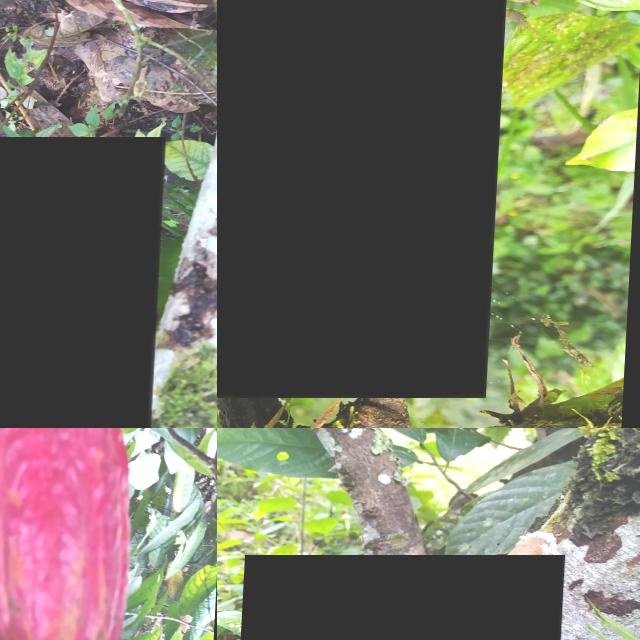Fitoftora: (217, 0, 509, 397), (0, 137, 167, 428)
Monilia: (229, 555, 567, 640)
Sana: (0, 428, 151, 640)
